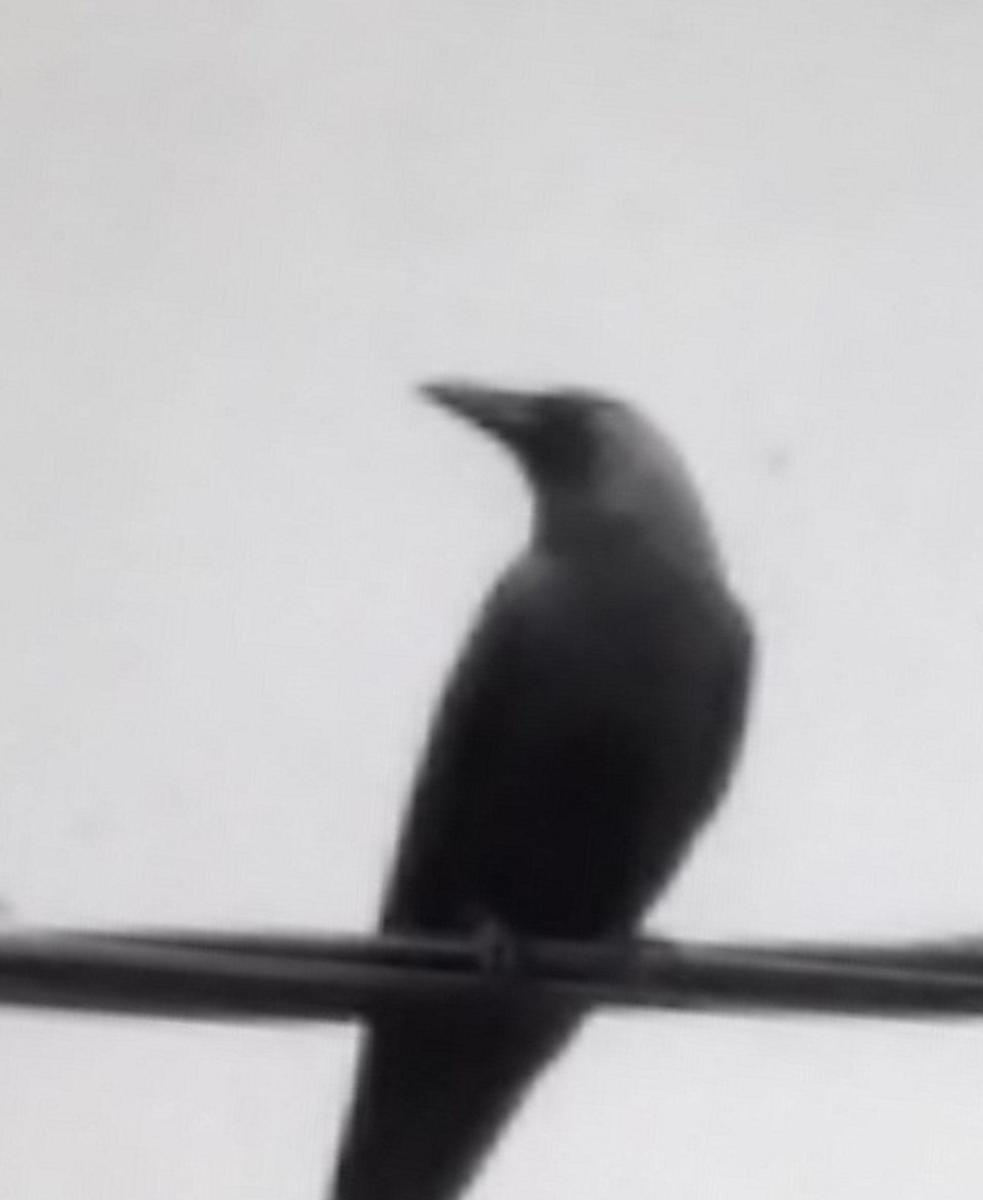crow: (335, 307, 777, 1151)
